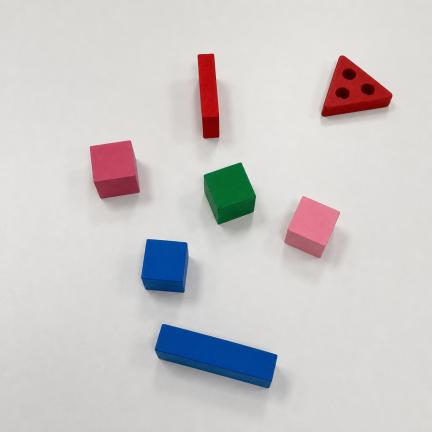BuildingBlocks: (155, 324, 277, 387), (322, 56, 392, 116), (285, 197, 339, 257), (204, 163, 255, 224), (90, 141, 139, 198), (142, 240, 188, 292), (198, 54, 219, 138)
